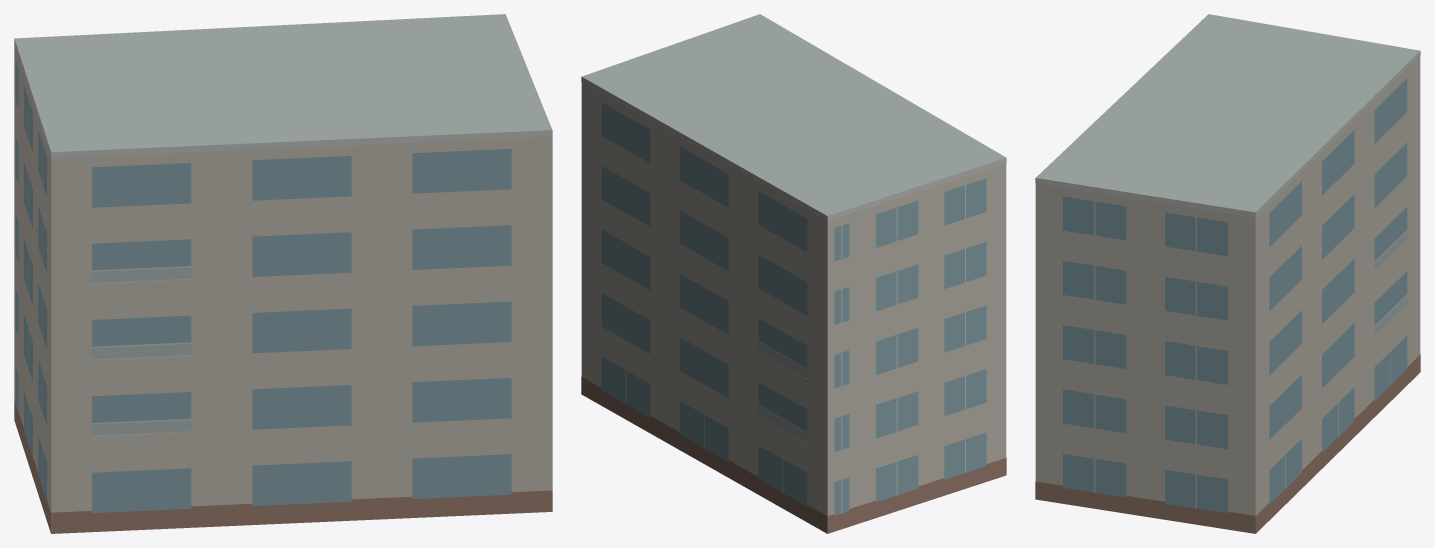
Rendered from survey-upis-32809155.glb.
3 views of the same model, side by side, from view 1: azimuth 30°, elevation 25°; view 2: azimuth 150°, elevation 25°; view 3: azimuth 270°, elevation 25° (orthographic). The views are drawn at different scales.
Visible parts, largest first — view 1: survey-upis-32809155.tmp; view 2: survey-upis-32809155.tmp; view 3: survey-upis-32809155.tmp.
Boxes of the visible parts, x1,y1,x2,y2 form: survey-upis-32809155.tmp: [14, 14, 552, 533]; survey-upis-32809155.tmp: [581, 14, 1006, 533]; survey-upis-32809155.tmp: [1035, 14, 1420, 533].
Size of the model in its own units: 18.66 by 14.1 by 15.31.
